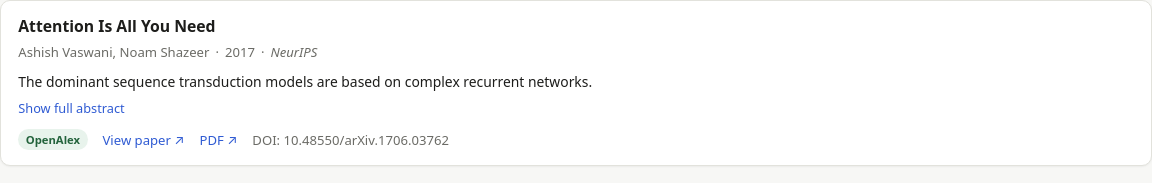
Test: PaperCard › toggles the full abstract
Click the button "Show full abstract" at (72, 108), box x1=18 y1=99 x2=125 y2=118
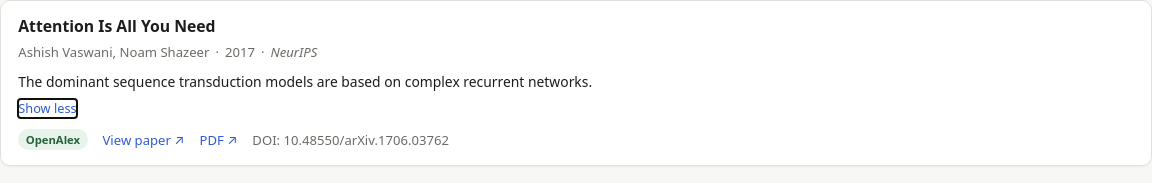
Result: the button "Show full abstract" is gone
Click the button "Show less" at (48, 108), box x1=18 y1=99 x2=77 y2=118
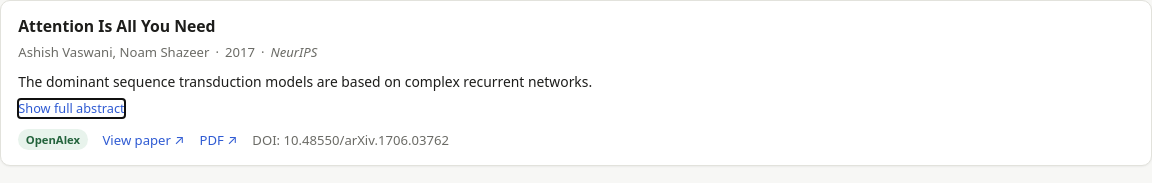
Result: the button "Show full abstract" is shown at x1=18 y1=99 x2=125 y2=118
